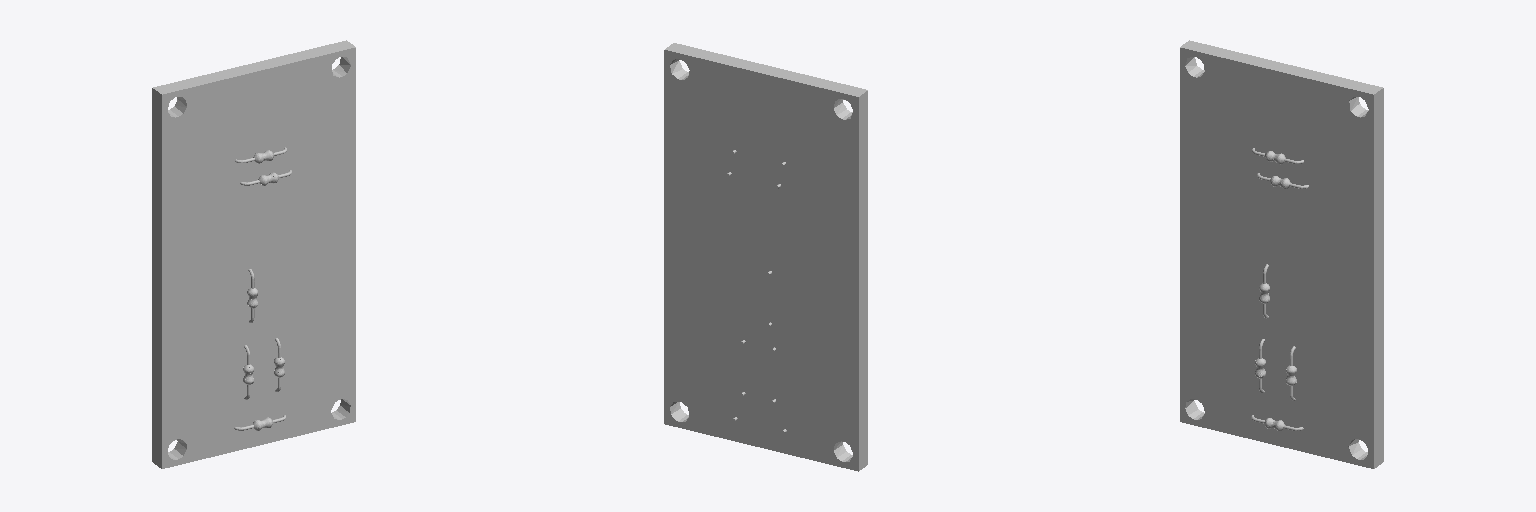
File: OBJ_PCB_Telecomando Systema Pylon Senza LM_2.obj
3 renders of one model, left to right at view 1: azimuth 30°, elevation 25°; view 2: azimuth 150°, elevation 25°; view 3: azimuth 330°, elevation 25°, orthographic.
Bounding box in the file's own units: 117 × 215 × 18.57.